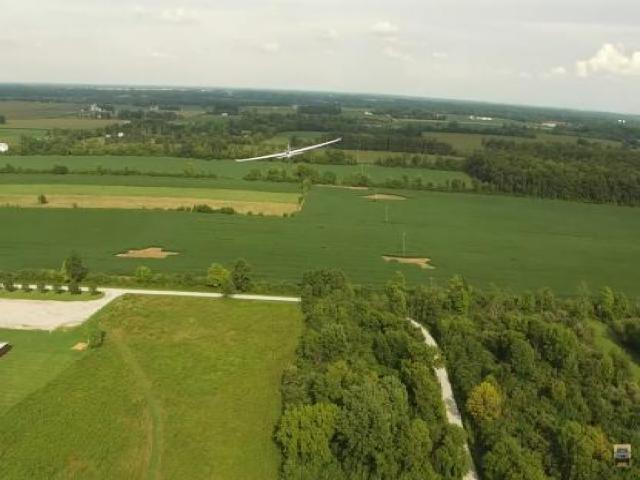uav: (231, 125, 346, 180)
